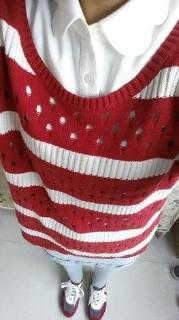long sleeve top: (0, 0, 179, 260)
trousers: (35, 219, 141, 287)
